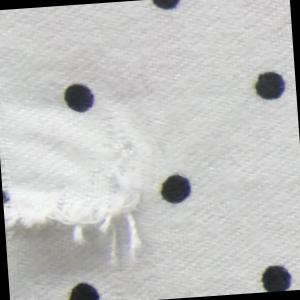Damage: (1, 111, 157, 277)
